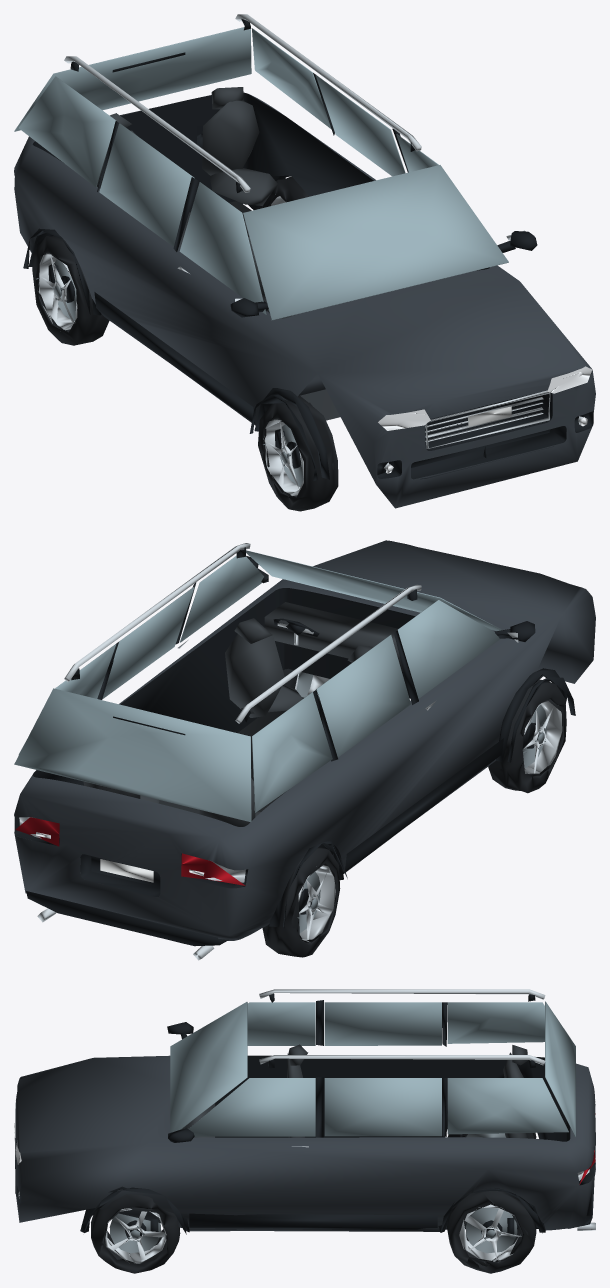
The model's file is suv-lod2.glb.
The picture shows the model from 3 angles, top to bottom: view 1: azimuth 30°, elevation 25°; view 2: azimuth 150°, elevation 25°; view 3: azimuth 270°, elevation 25°; orthographic projection. The views are drawn at different scales.
Visible parts, largest first — view 1: body_paint, body_glass.001, body_black.001, wheelpart_rubber.001 (×3), body_interior, body_chrome, wheelpart_chrome (×2), body_clearlens; view 2: body_paint, body_glass.001, body_black.001, body_interior, wheelpart_rubber.001 (×2), body_chrome, wheelpart_chrome (×2), body_redlens, body_white; view 3: body_paint, body_glass.001, body_black.001, wheelpart_rubber.001 (×2), body_chrome, wheelpart_chrome (×2), wheelpart_steel.001 (×2), body_interior.
Boxes of the visible parts, bbox=[...] form: body_paint: bbox=[14, 94, 595, 508]; body_glass.001: bbox=[14, 27, 508, 320]; body_black.001: bbox=[14, 19, 593, 480]; wheelpart_rubber.001 (×3): bbox=[32, 176, 338, 511]; body_interior: bbox=[97, 87, 340, 420]; body_chrome: bbox=[64, 14, 586, 469]; wheelpart_chrome (×2): bbox=[38, 253, 303, 495]; body_clearlens: bbox=[378, 366, 592, 473]; body_paint: bbox=[14, 540, 595, 940]; body_glass.001: bbox=[14, 550, 502, 822]; body_black.001: bbox=[14, 547, 575, 946]; body_interior: bbox=[80, 602, 403, 888]; wheelpart_rubber.001 (×2): bbox=[262, 679, 566, 957]; body_chrome: bbox=[19, 543, 518, 960]; wheelpart_chrome (×2): bbox=[298, 701, 562, 942]; body_redlens: bbox=[15, 817, 245, 885]; body_white: bbox=[100, 859, 153, 882]; body_paint: bbox=[15, 1055, 595, 1231]; body_glass.001: bbox=[170, 1001, 575, 1137]; body_black.001: bbox=[15, 993, 595, 1234]; wheelpart_rubber.001 (×2): bbox=[91, 1191, 536, 1273]; body_chrome: bbox=[15, 989, 595, 1230]; wheelpart_chrome (×2): bbox=[105, 1204, 521, 1263]; wheelpart_steel.001 (×2): bbox=[109, 1208, 517, 1253]; body_interior: bbox=[181, 1044, 528, 1224].
Size of the model in its own units: 2.24 by 1.83 by 4.75.
